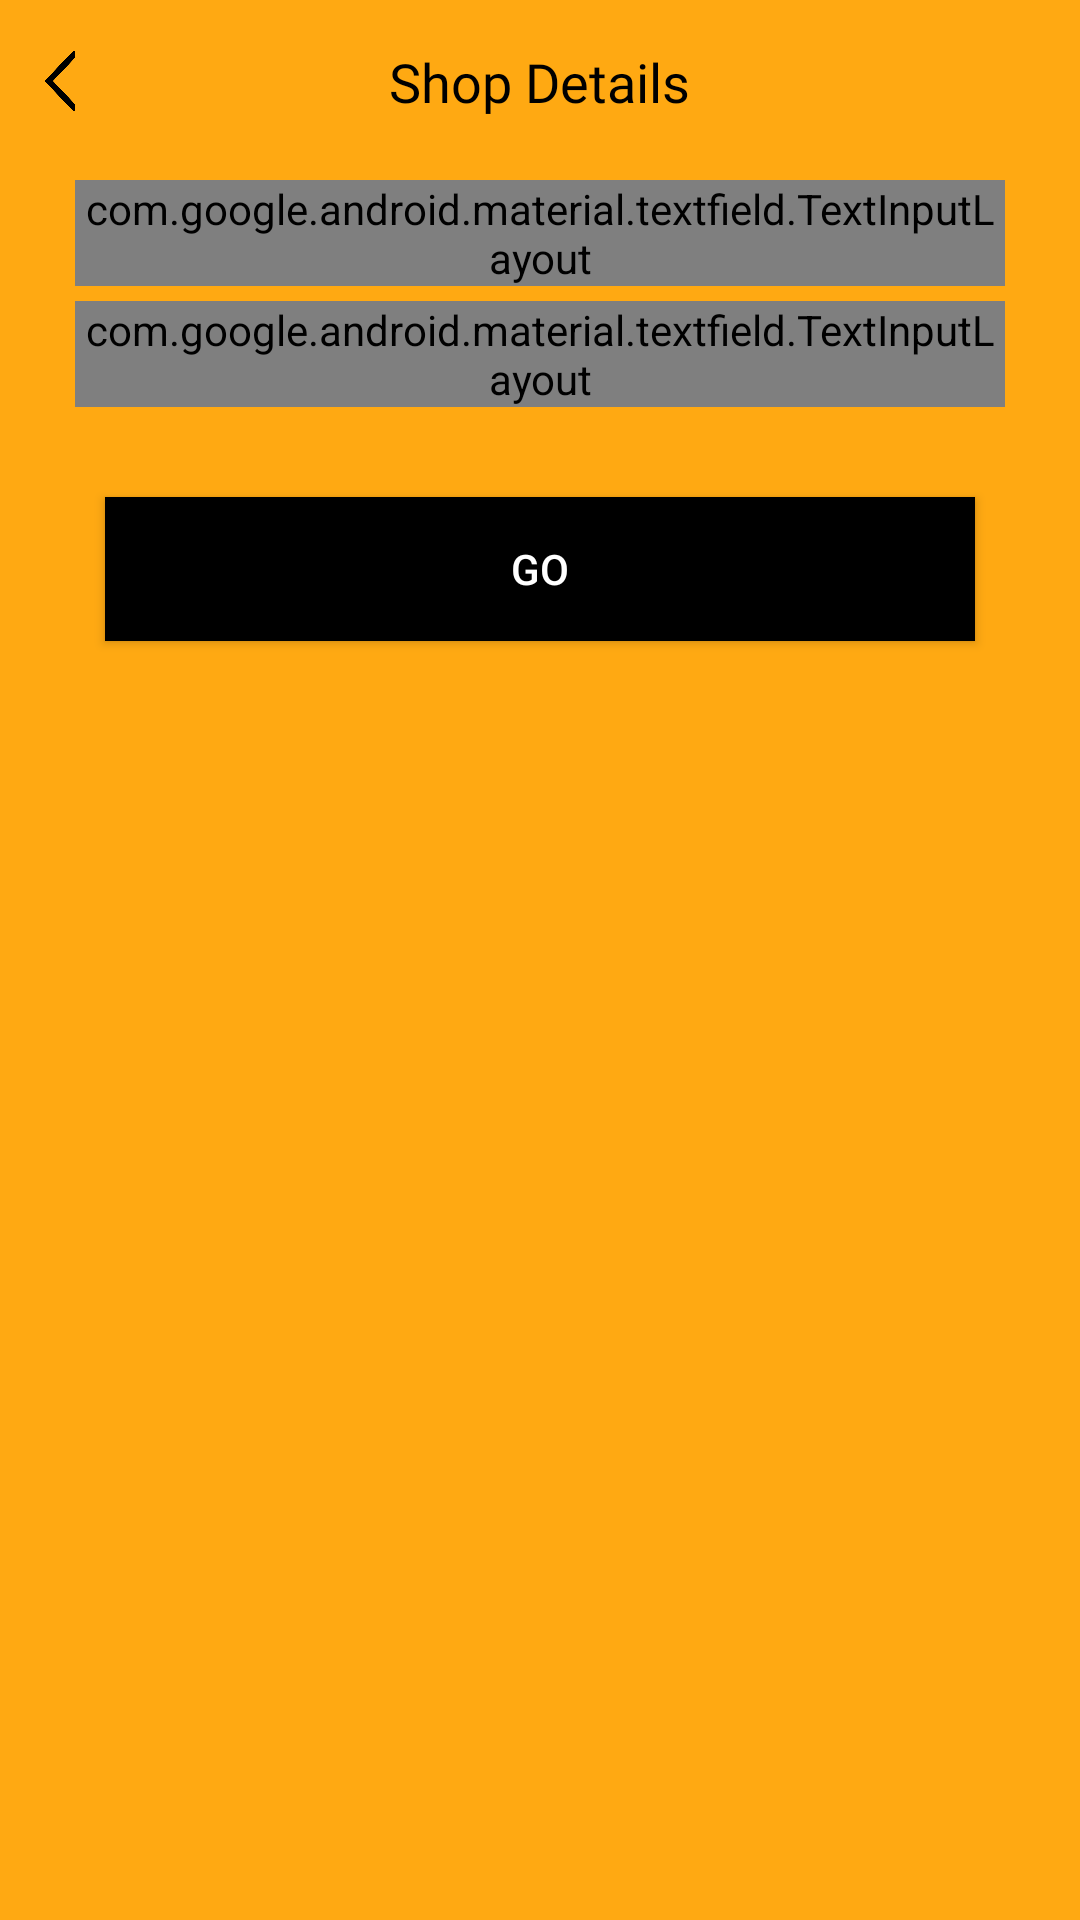

Point at icon controls on the screen. Image size 1080 x 1920, points as (x=x, y=y).
left: (x=60, y=81)
